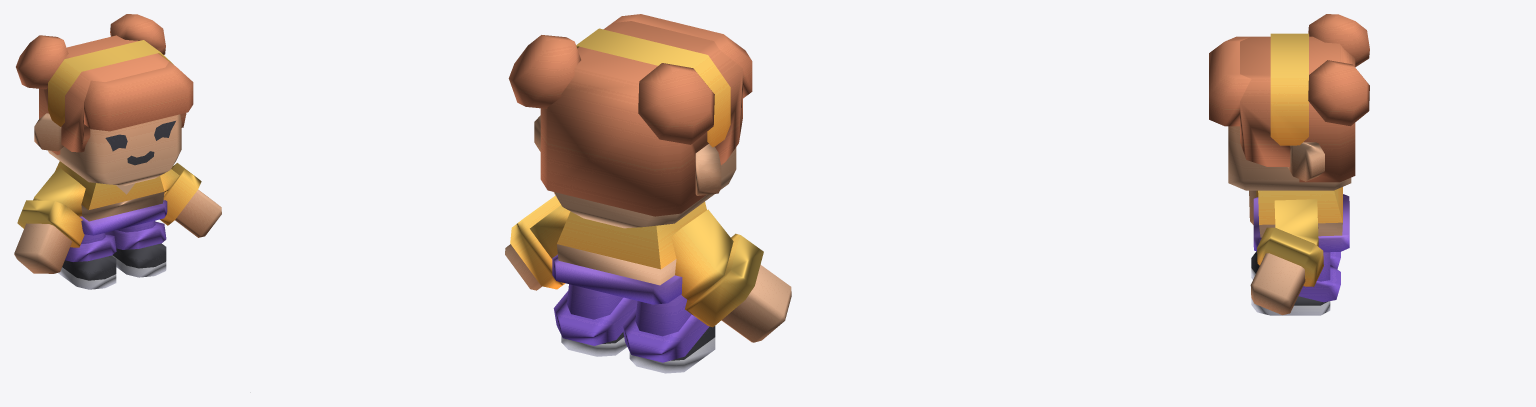
The model's file is crowdB_sprint_4.glb.
3 views of the same model, side by side, from view 1: azimuth 30°, elevation 25°; view 2: azimuth 150°, elevation 25°; view 3: azimuth 270°, elevation 25° (orthographic). The views are drawn at different scales.
Parts seen in each view (by area): view 1: crowdB-sprint-4; view 2: crowdB-sprint-4; view 3: crowdB-sprint-4.
Boxes of the visible parts, left/top/right/bottom form: crowdB-sprint-4: left=14, top=14, right=221, bottom=289; crowdB-sprint-4: left=505, top=14, right=791, bottom=373; crowdB-sprint-4: left=1209, top=14, right=1369, bottom=315.
Bounding box in the file's own units: 1.2 × 0.7336 × 1.2.
Materials: 1 (1 with a texture image).
